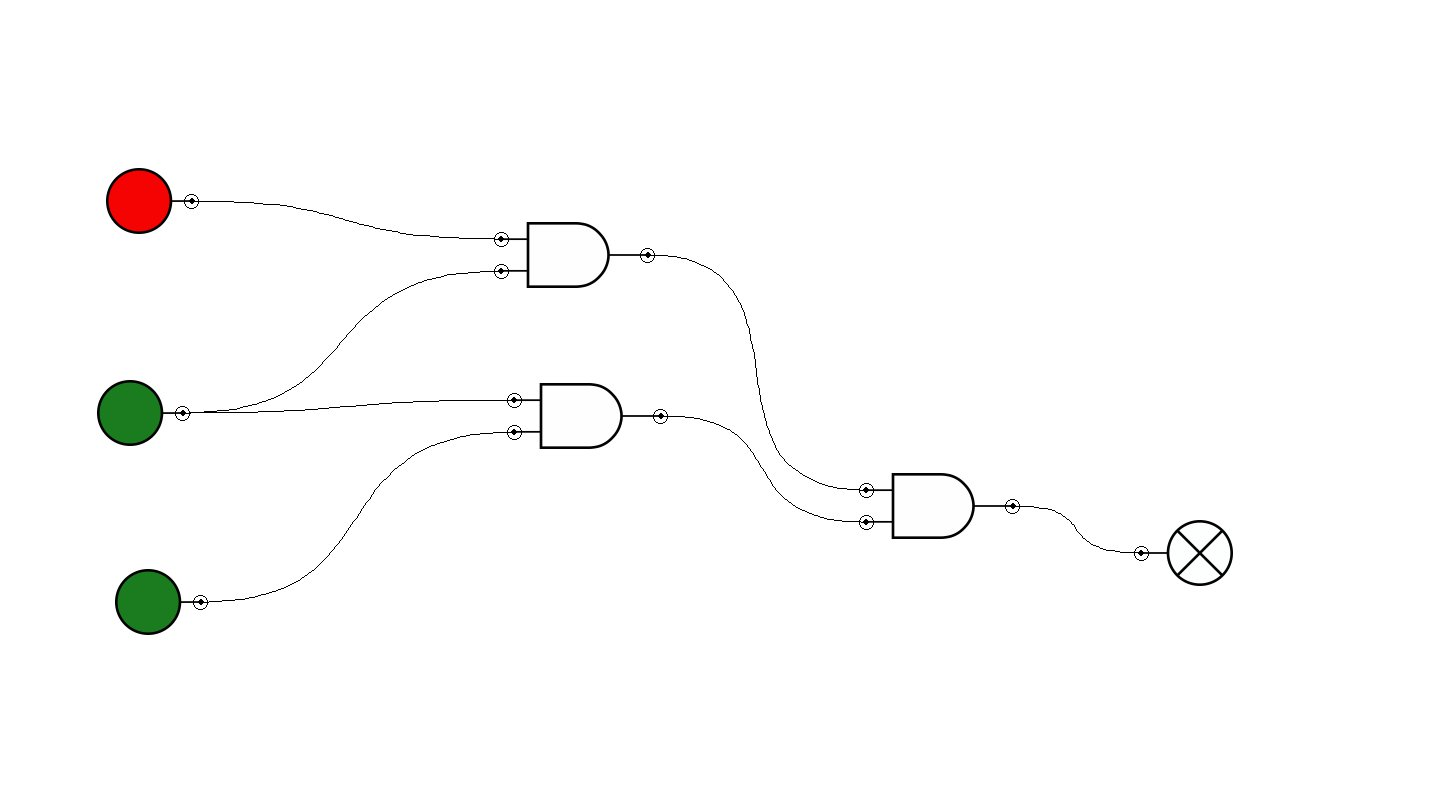and: (507, 383, 668, 449), (859, 473, 1020, 539), (494, 222, 655, 288)
bulb: (1134, 520, 1233, 586)
switch_False: (106, 168, 199, 234)
switch_True: (115, 569, 208, 635), (97, 380, 190, 446)
